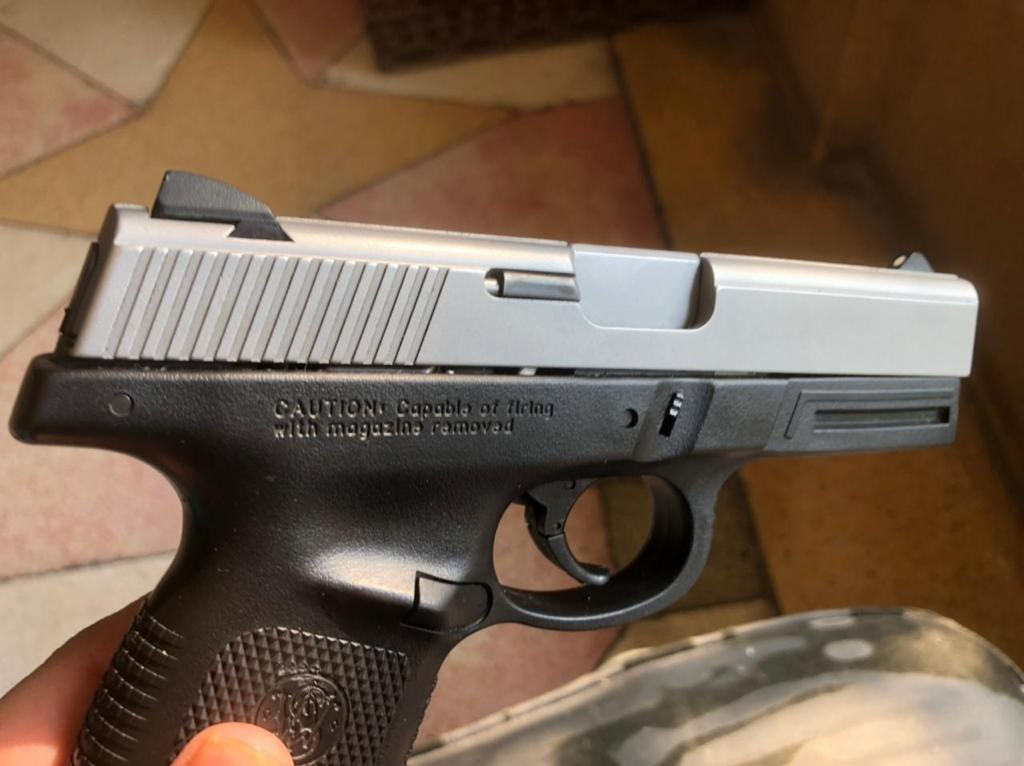weapon: (10, 170, 977, 766)
